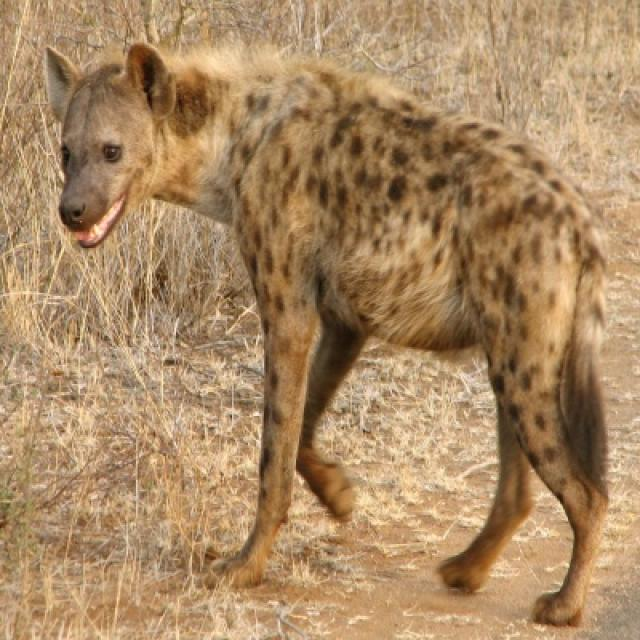hyena: (45, 43, 611, 630)
